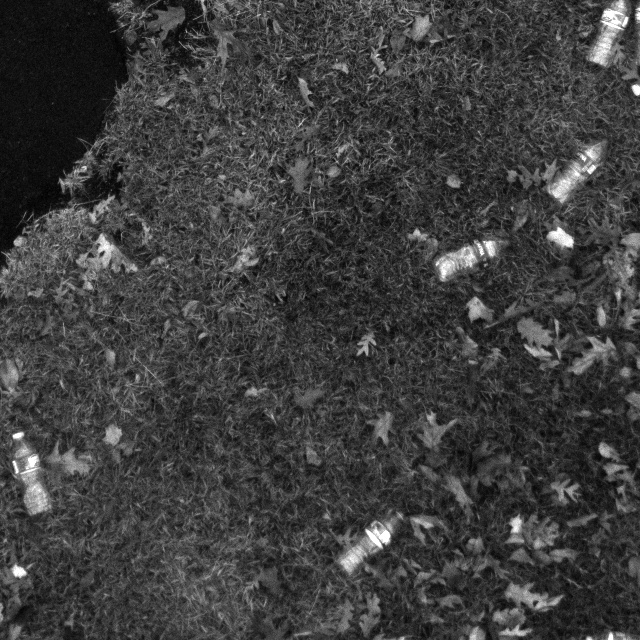bottle: (335, 508, 412, 575), (2, 425, 56, 513), (543, 136, 607, 199), (428, 230, 507, 281), (583, 0, 640, 70)
